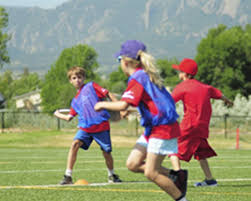disc: (57, 109, 71, 113)
